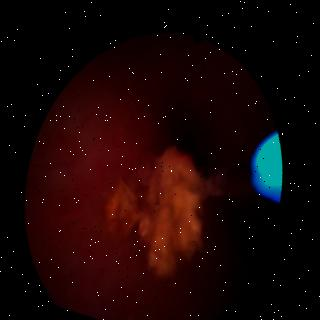fiber: (252, 127, 281, 197)
stone: (107, 143, 210, 274)
tissue: (27, 34, 274, 320)
